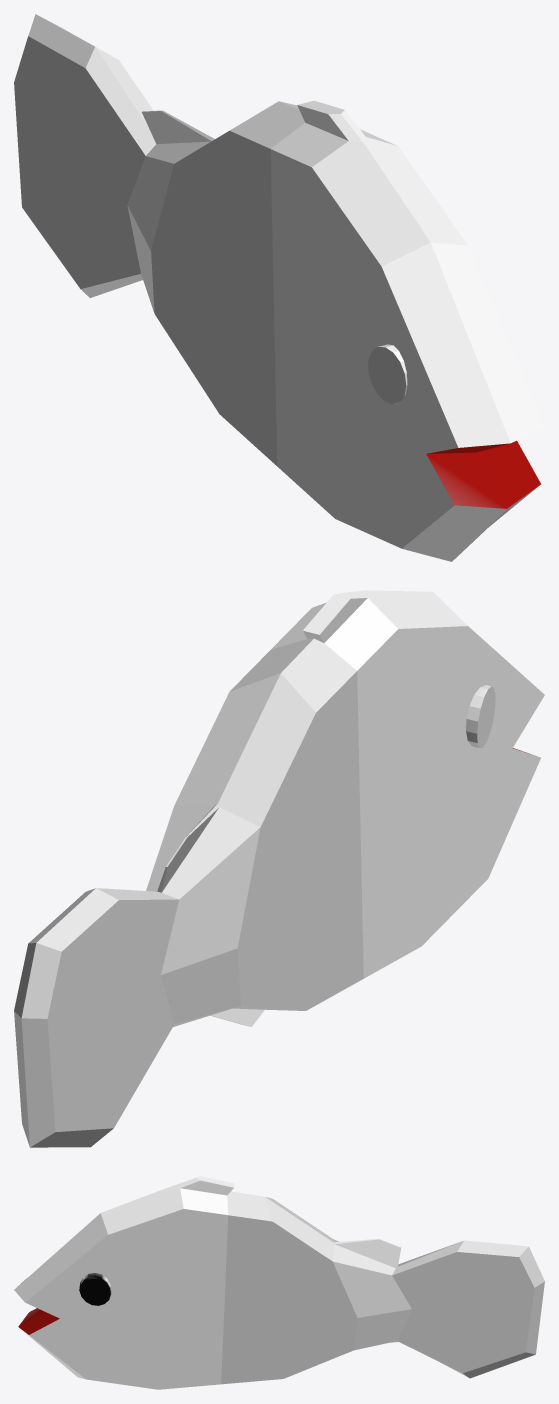
Rendered from clown.fbx.
The picture shows the model from 3 angles, top to bottom: view 1: azimuth 30°, elevation 25°; view 2: azimuth 150°, elevation 25°; view 3: azimuth 270°, elevation 25°; orthographic projection. The views are drawn at different scales.
Parts seen in each view (by area): view 1: CLOWNFRONT, CLOWNACK, CLOWNEYES; view 2: CLOWNACK, CLOWNFRONT, CLOWNEYES; view 3: CLOWNACK, CLOWNFRONT, CLOWNEYES.
Boxes of the visible parts, x1=… form: CLOWNFRONT: x1=270, y1=100, x2=544, y2=561; CLOWNACK: x1=14, y1=14, x2=304, y2=465; CLOWNEYES: x1=368, y1=344, x2=407, y2=404; CLOWNACK: x1=14, y1=638, x2=363, y2=1147; CLOWNFRONT: x1=271, y1=590, x2=544, y2=978; CLOWNEYES: x1=466, y1=685, x2=495, y2=747; CLOWNACK: x1=221, y1=1191, x2=544, y2=1384; CLOWNFRONT: x1=14, y1=1176, x2=234, y2=1389; CLOWNEYES: x1=79, y1=1273, x2=111, y2=1305.
Size of the model in its own units: 24.67 by 82.01 by 187.
